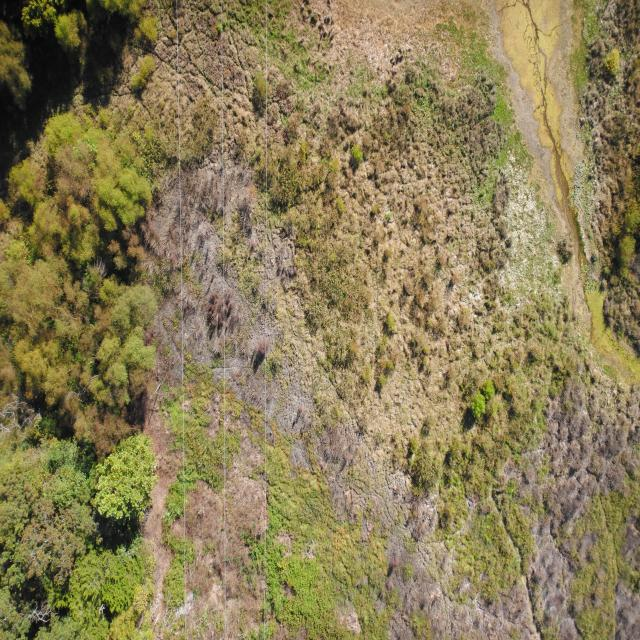Area of Interest: (7, 412, 151, 628)
